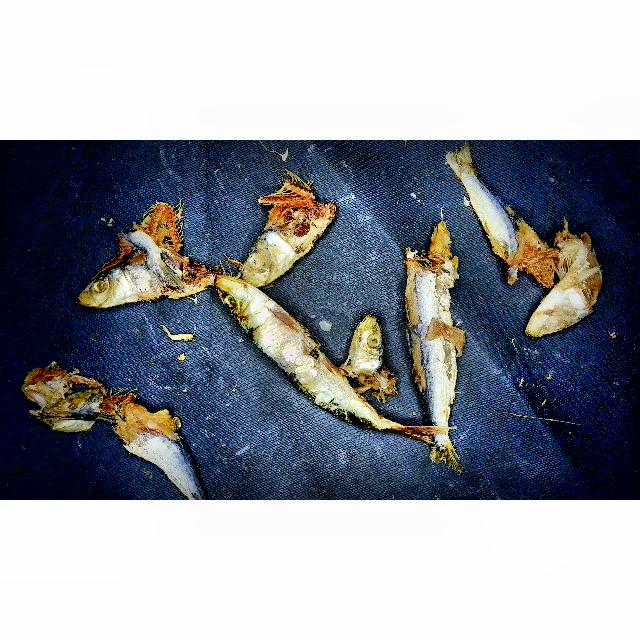Rejected_Body: (339, 310, 400, 397)
Rejected_Head: (79, 196, 210, 316), (233, 178, 350, 283), (212, 272, 284, 344), (18, 364, 89, 435)
